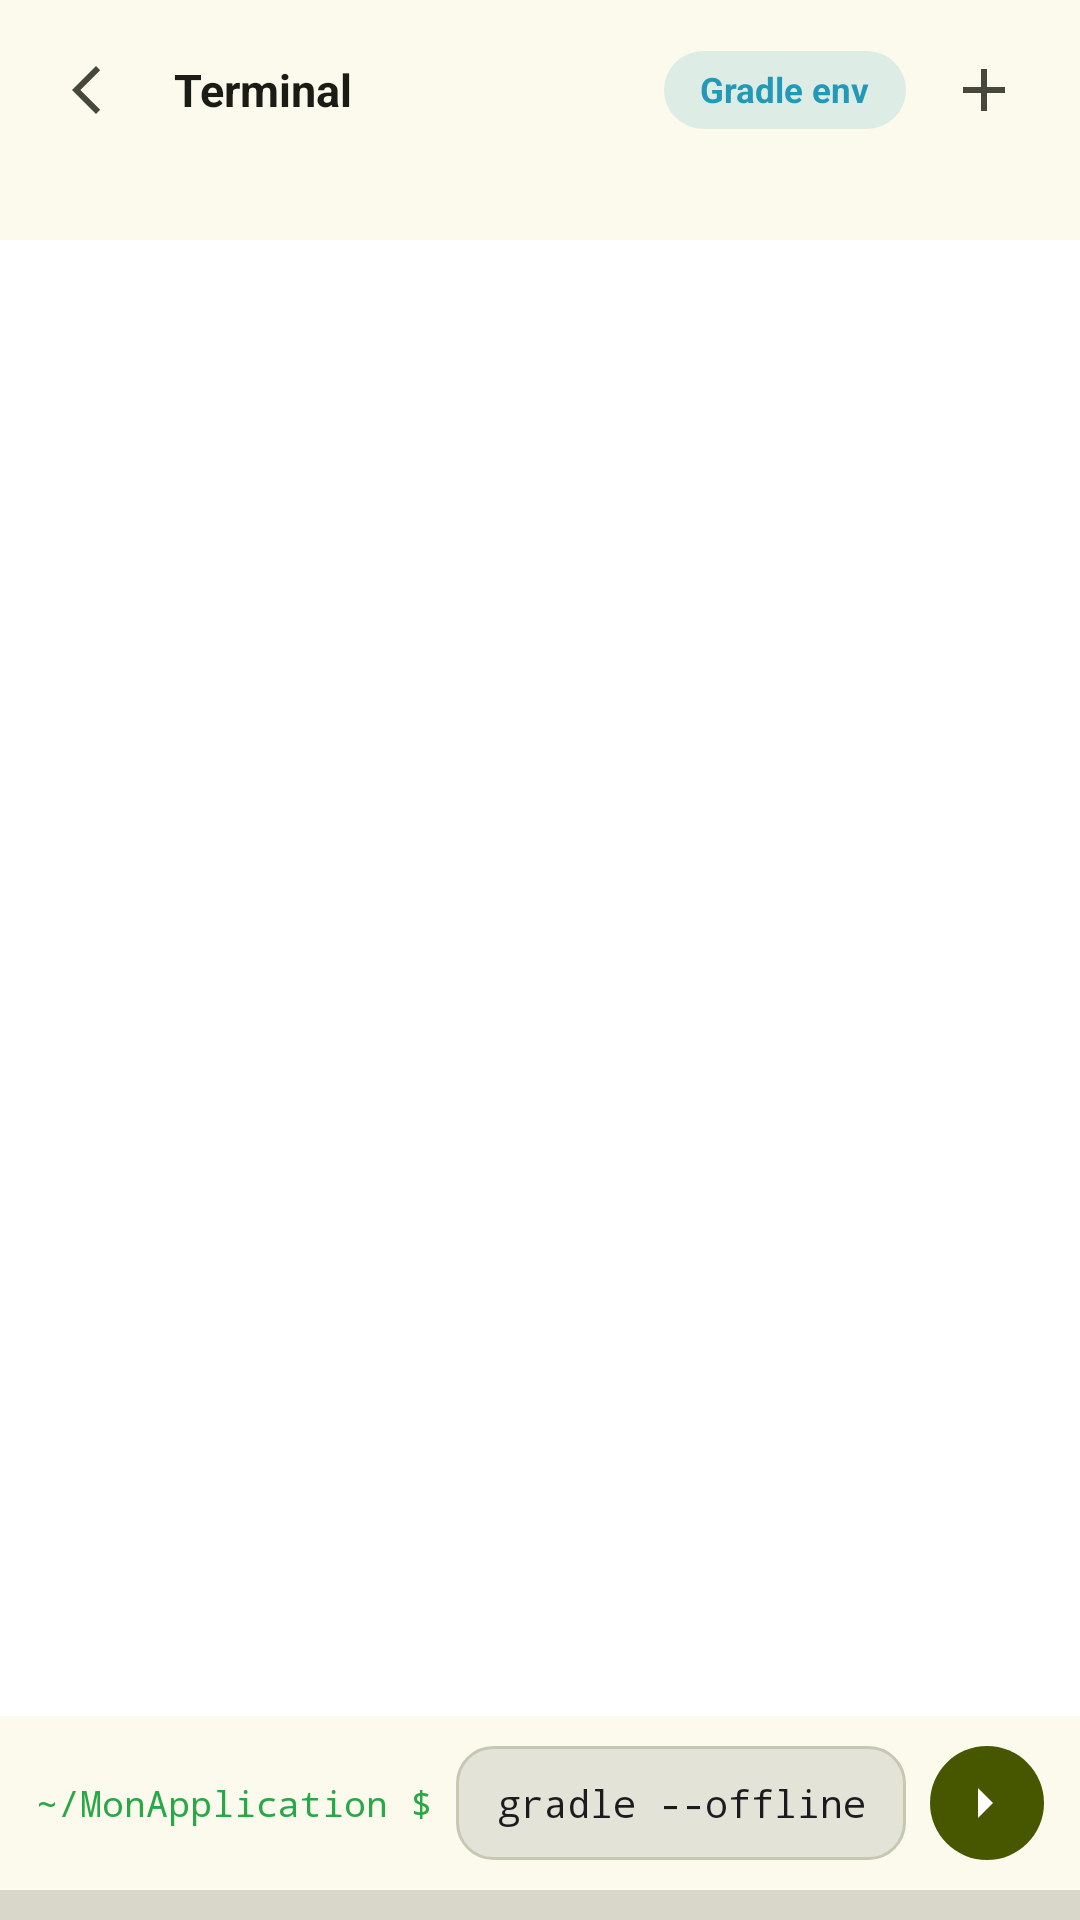

Icons on this 1080px x 1920px Android screen, each with its box as (x1, y1, x2, y2):
Envoyer: (930, 1746, 1044, 1860)
Nouvelle session: (963, 69, 1005, 111)
Retour: (72, 66, 100, 114)
